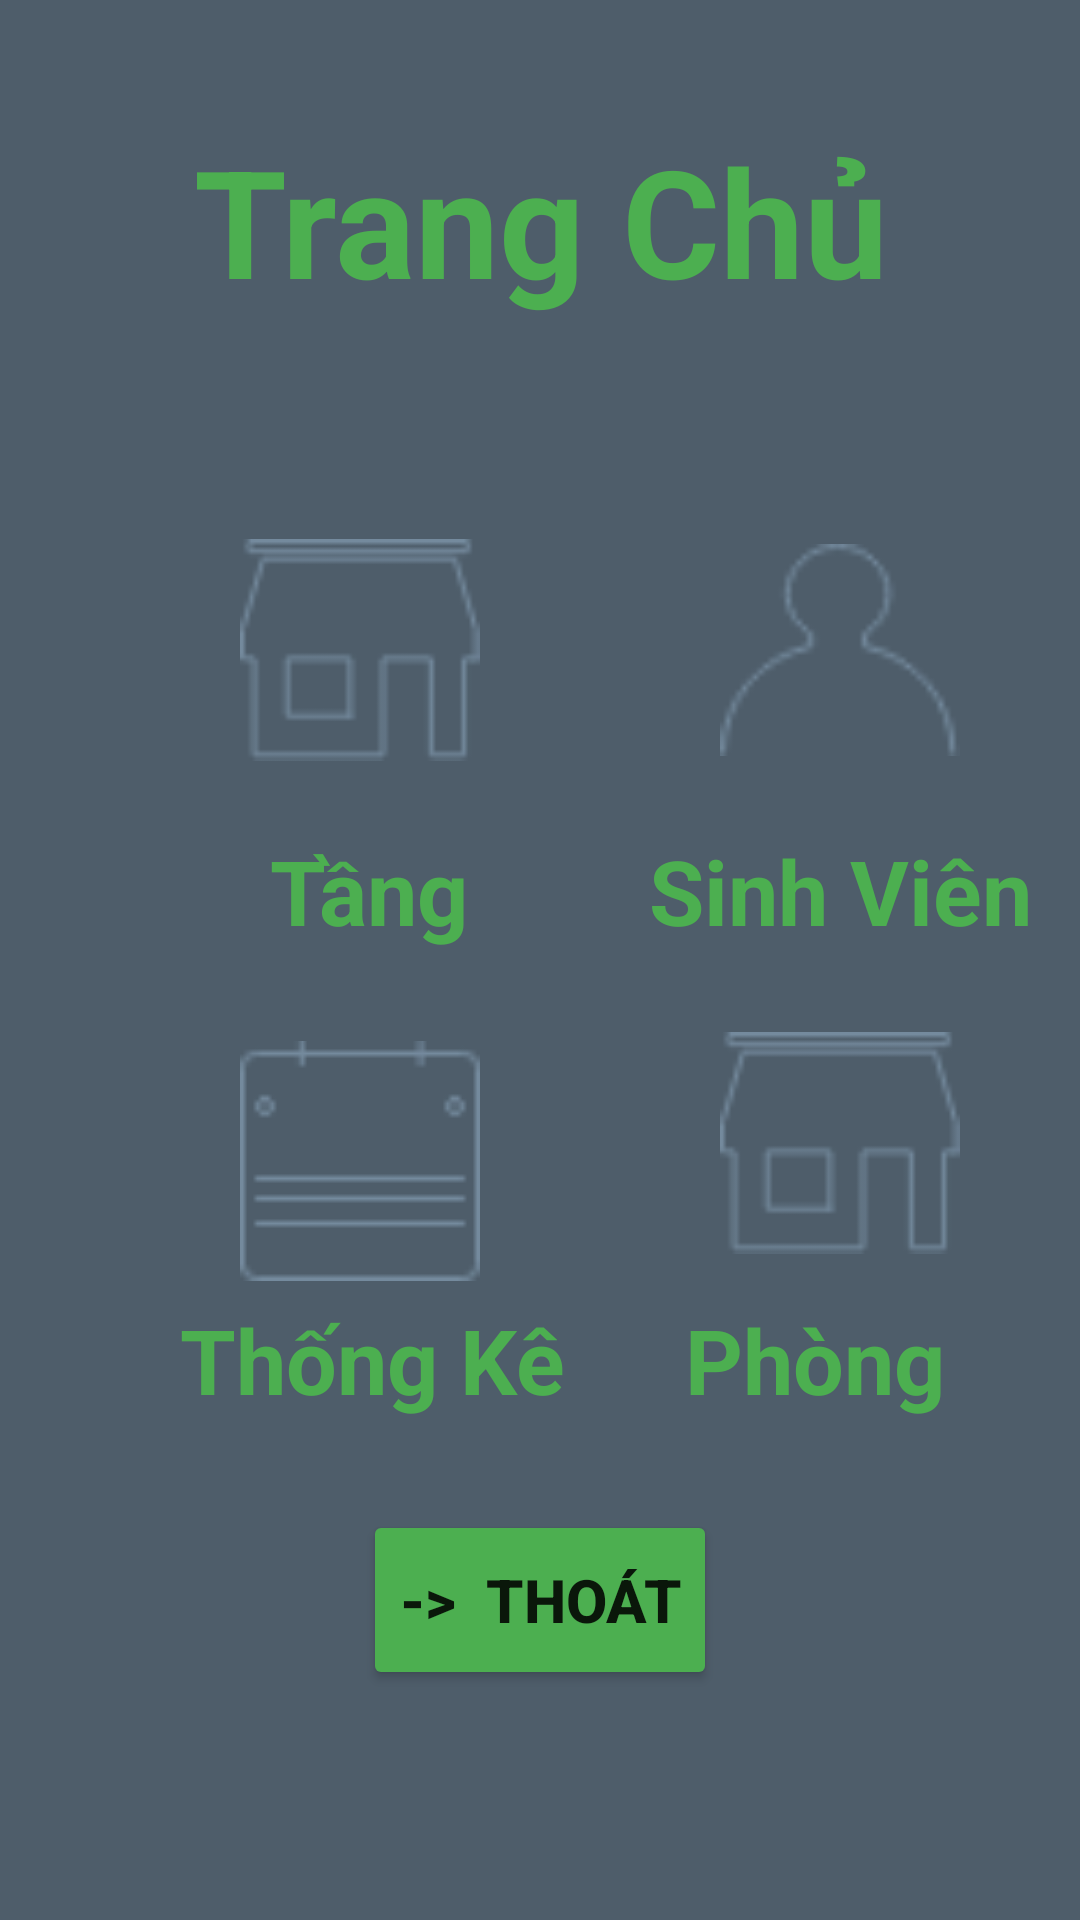

Icons on this 1080px x 1920px Android screen, each with the point to tap as [x,y]:
account: [837,649]
calendar: [360,1161]
store: [360,648], [840,1141]
